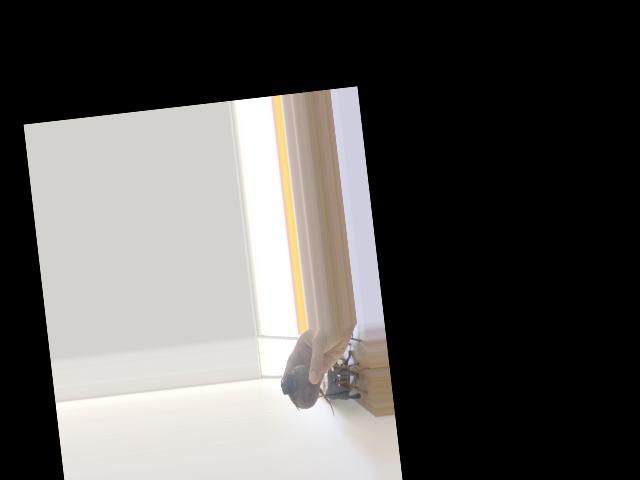beet: (278, 362, 334, 424)
